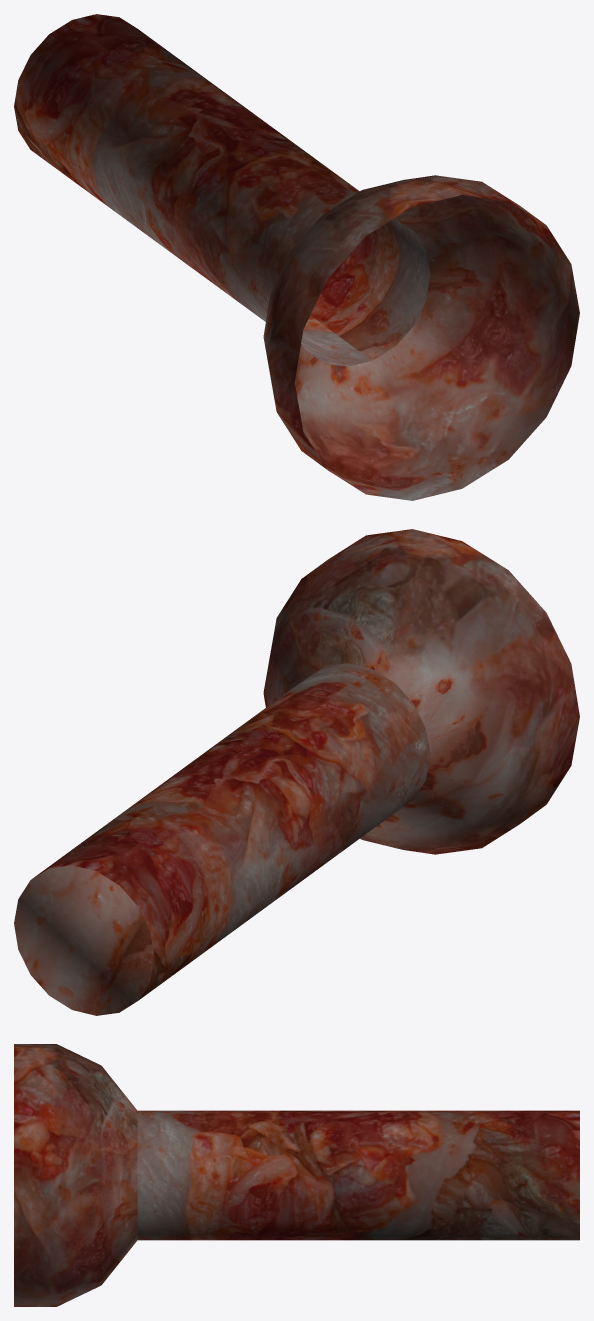
Rendered from nexus002.obj.
The picture shows the model from 3 angles, top to bottom: view 1: azimuth 30°, elevation 25°; view 2: azimuth 150°, elevation 25°; view 3: azimuth 270°, elevation 25°; orthographic projection. The views are drawn at different scales.
Parts seen in each view (by area): view 1: nexus002; view 2: nexus002; view 3: nexus002.
Part boxes in pixels (box(x1,y1,x2,y2)): nexus002: box(14, 14, 579, 500); nexus002: box(14, 529, 579, 1015); nexus002: box(14, 1044, 579, 1306).
Size of the model in its own units: 0.4712 by 0.4641 by 1.01.
1 material, 1 textured.
